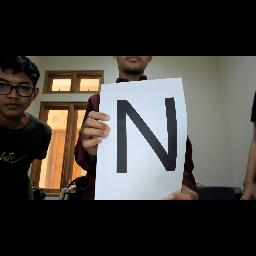n: (108, 96, 182, 178)
